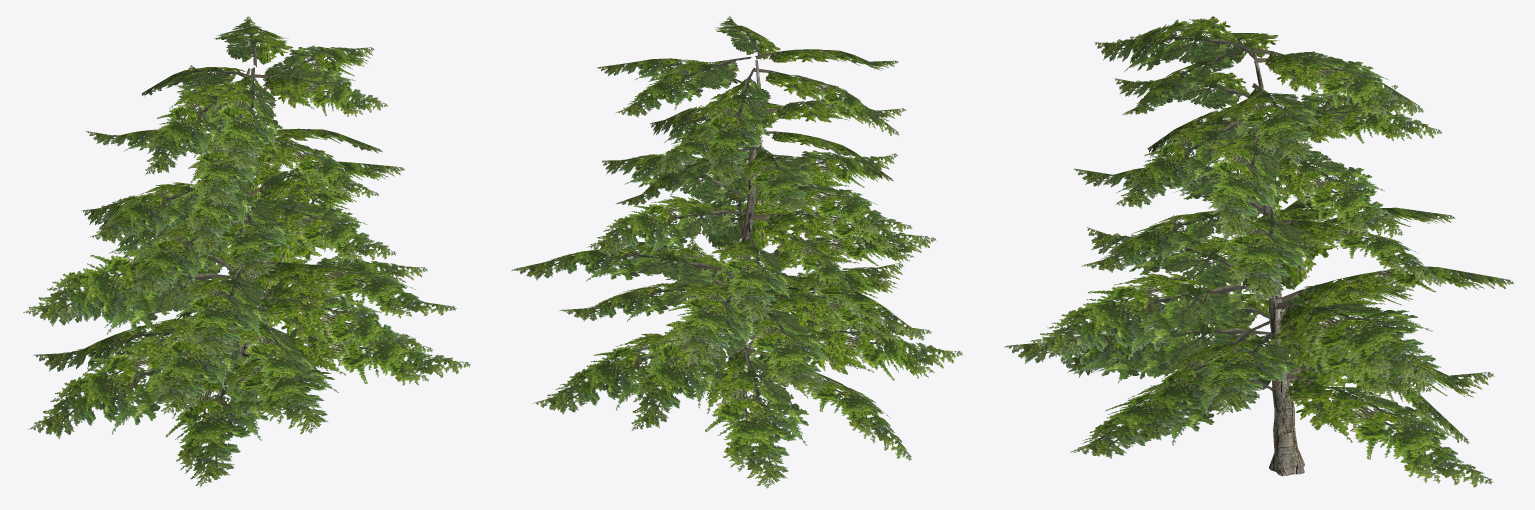
Rendered from SM_Tree_04.fbx.
The picture shows the model from 3 angles, left to right: view 1: azimuth 30°, elevation 25°; view 2: azimuth 150°, elevation 25°; view 3: azimuth 270°, elevation 25°; orthographic projection. The views are drawn at different scales.
Parts seen in each view (by area): view 1: SM_Tree_04; view 2: SM_Tree_04; view 3: SM_Tree_04.
Part boxes in pixels (left/top/right/bottom): SM_Tree_04: left=23, top=16, right=470, bottom=487; SM_Tree_04: left=511, top=16, right=962, bottom=488; SM_Tree_04: left=1004, top=16, right=1513, bottom=487.
Bounding box in the file's own units: 520 × 522 × 461.
2 materials, 2 textured.
